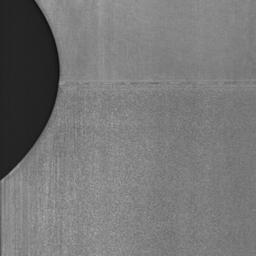Crescent gap: (0, 0, 60, 179)
